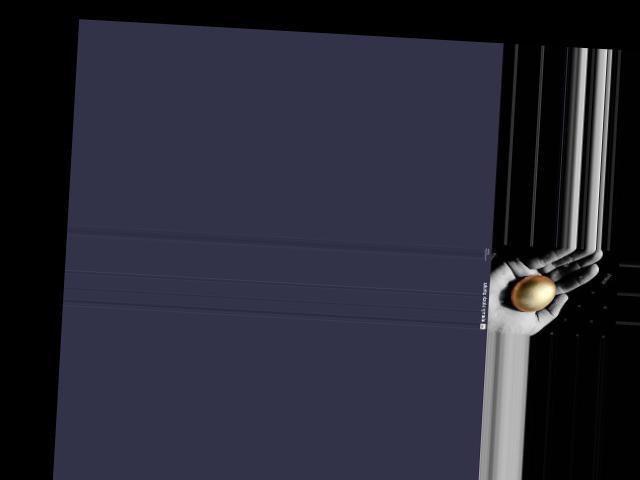egg: (511, 273, 557, 312)
